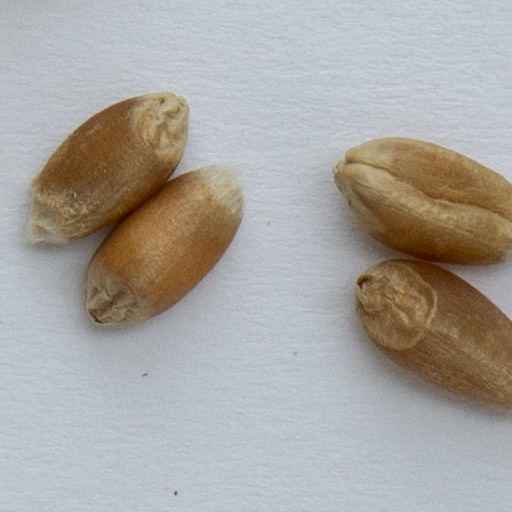Wheat-grain-poly: (81, 165, 247, 331), (21, 92, 187, 254), (355, 259, 511, 413), (332, 136, 511, 267)
